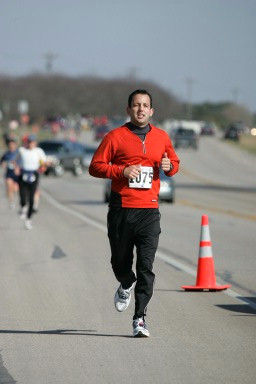person: (87, 88, 182, 341)
